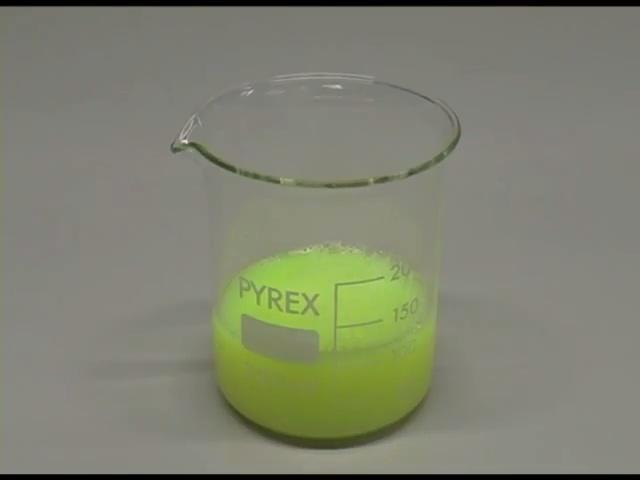Beaker: (167, 66, 467, 448)
